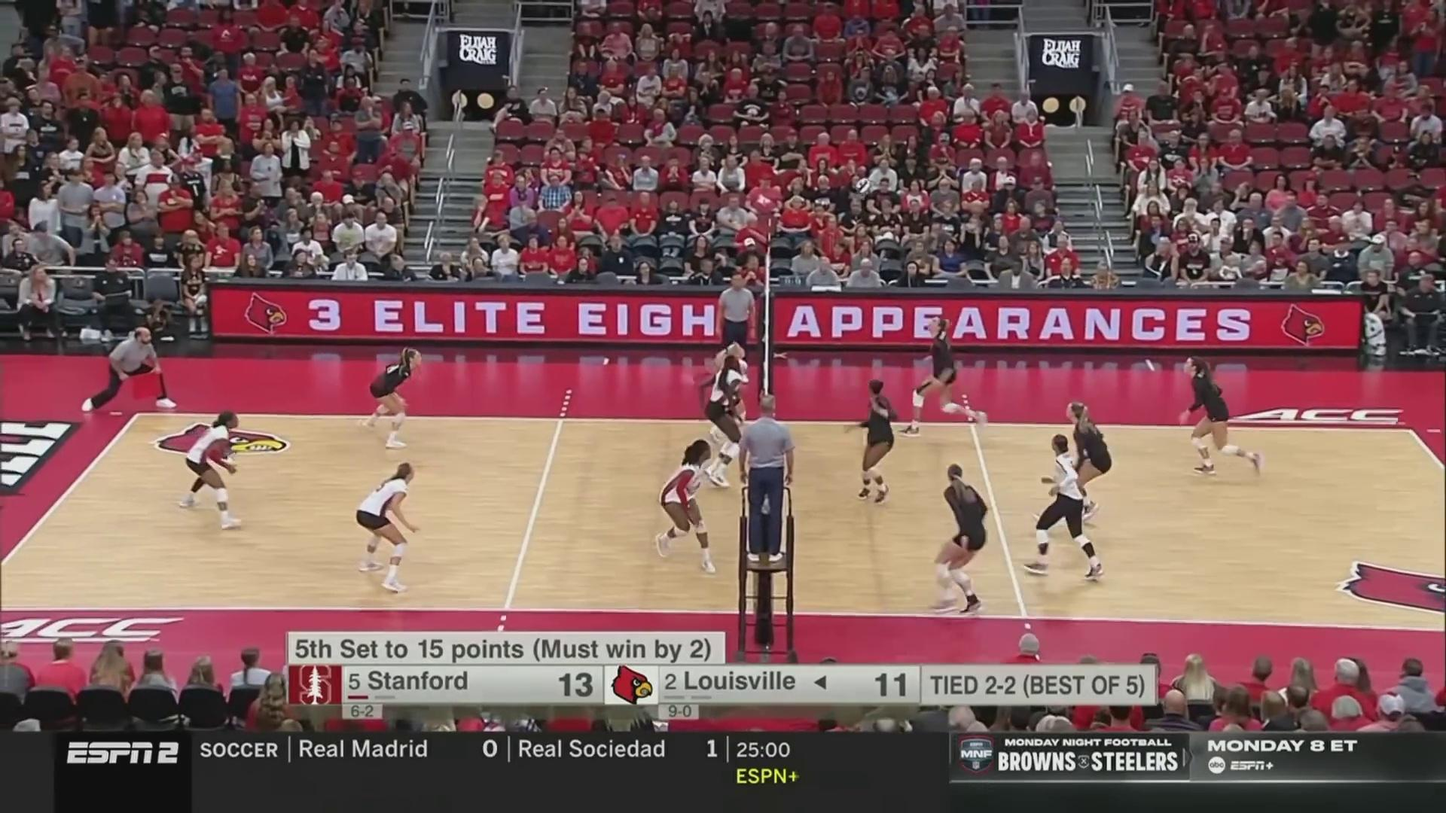player: (1028, 434, 1115, 582), (897, 316, 987, 437), (1181, 357, 1260, 476), (931, 463, 993, 612), (1036, 401, 1111, 523), (357, 467, 427, 589), (657, 440, 718, 575), (179, 409, 246, 530), (845, 380, 902, 504), (361, 347, 421, 450), (702, 357, 742, 488), (704, 342, 750, 446)
refree: (82, 324, 177, 414), (741, 395, 793, 559), (716, 273, 757, 378)
